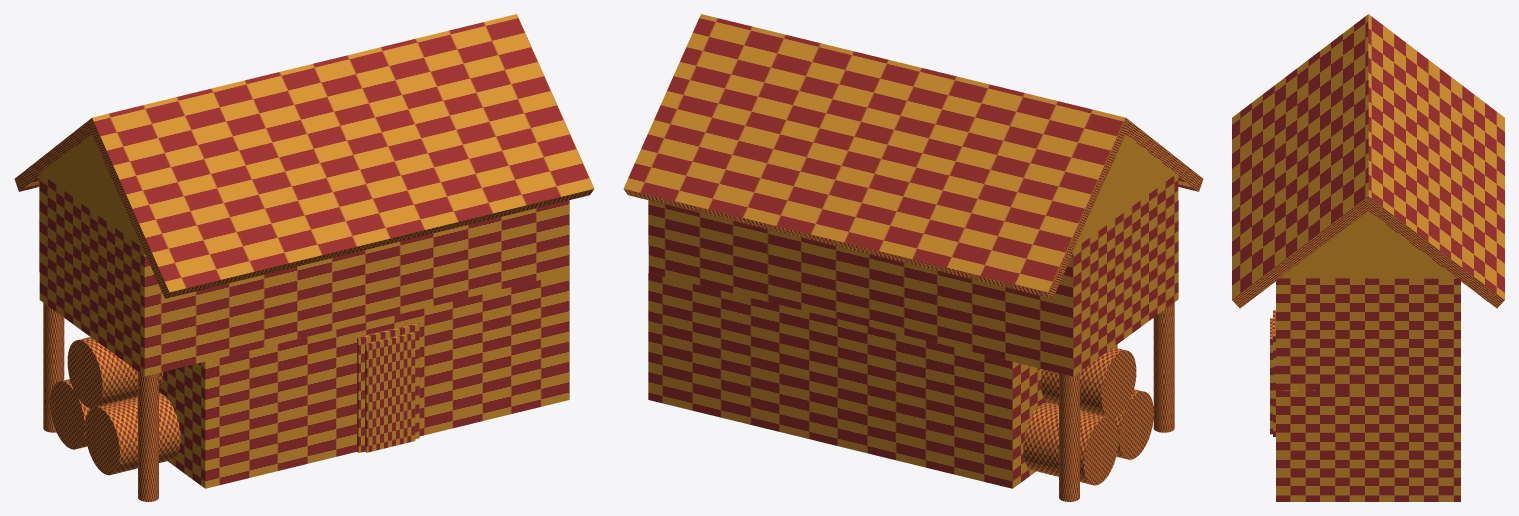
Rendered from Solbourg_Taverne.fbx.
3 views of the same model, side by side, from view 1: azimuth 30°, elevation 25°; view 2: azimuth 150°, elevation 25°; view 3: azimuth 270°, elevation 25° (orthographic). The views are drawn at different scales.
Parts seen in each view (by area): view 1: Cube.002; view 2: Cube.002; view 3: Cube.002.
Part boxes in pixels (left/top/right/bottom): Cube.002: left=14, top=14, right=594, bottom=501; Cube.002: left=623, top=14, right=1203, bottom=501; Cube.002: left=1232, top=14, right=1504, bottom=501.
Bounding box in the file's own units: 1400 × 1094 × 885.
Materials: 1 (1 with a texture image).
